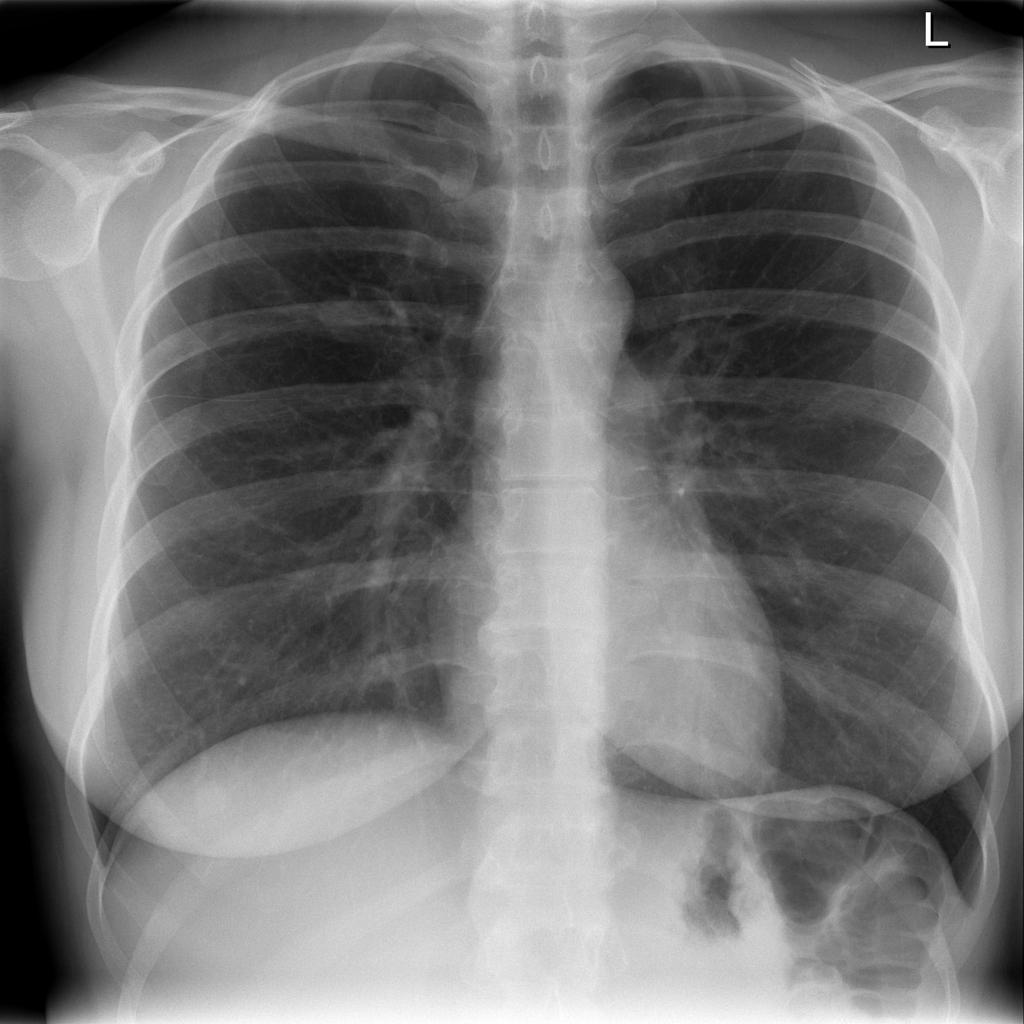nodule: (174, 763, 252, 830)
